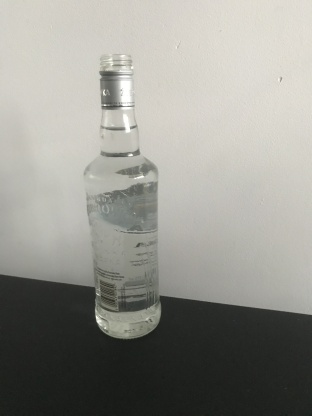nakretka: (97, 52, 136, 111)
